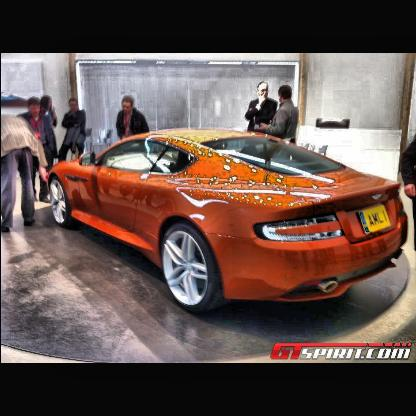Aston Martin Virage Coupe 2012: (47, 130, 409, 316)
